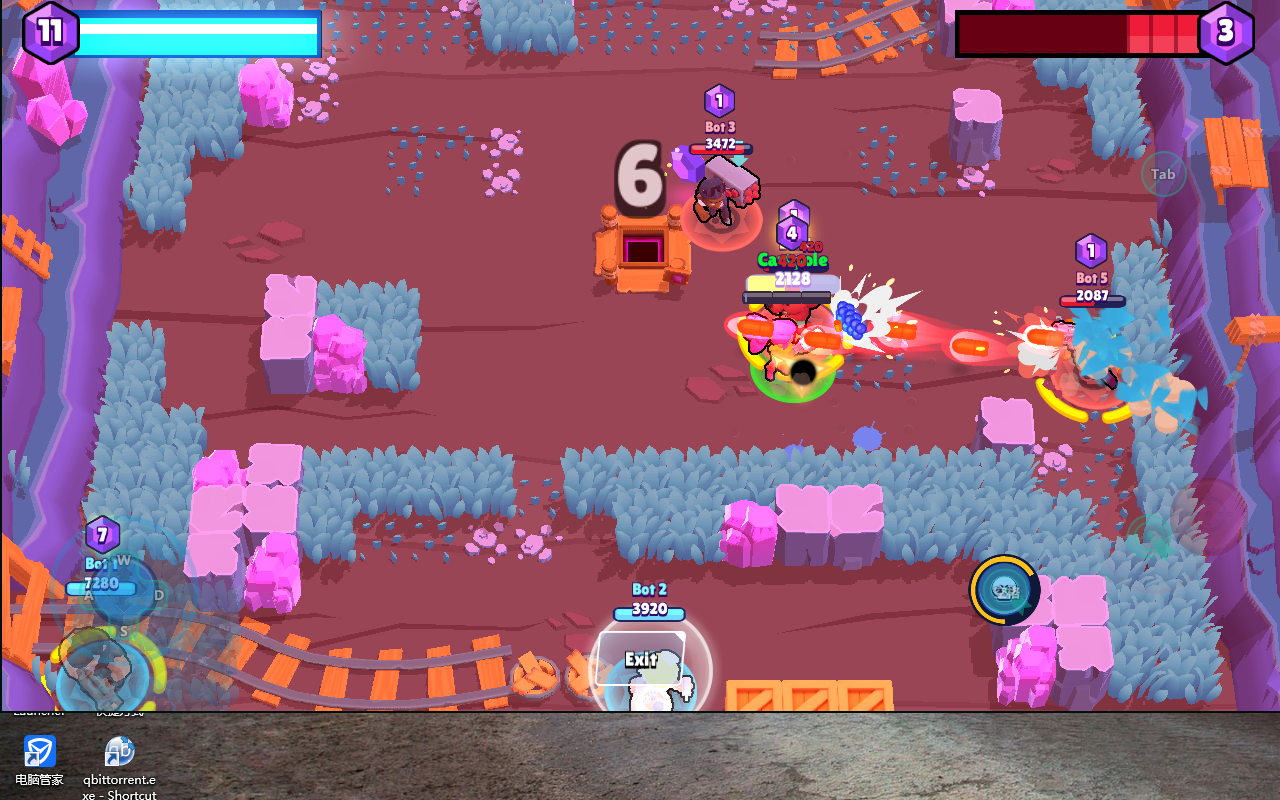current_player: (751, 339, 837, 403)
